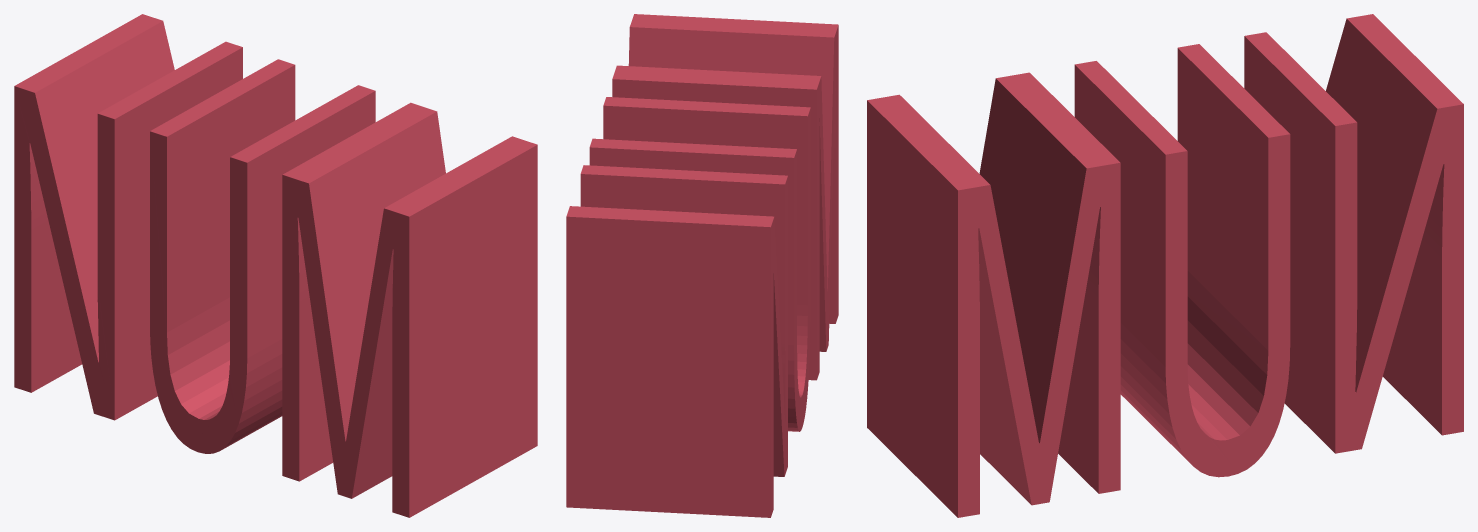
The model's file is Knight-with-names.glb.
3 renders of one model, left to right at view 1: azimuth 30°, elevation 25°; view 2: azimuth 150°, elevation 25°; view 3: azimuth 270°, elevation 25°, orthographic. The views are drawn at different scales.
Parts seen in each view (by area): view 1: Mesh_Mesh_head_geo.001_lambert2SG.001; view 2: Mesh_Mesh_head_geo.001_lambert2SG.001; view 3: Mesh_Mesh_head_geo.001_lambert2SG.001.
Boxes of the visible parts, x1=… form: Mesh_Mesh_head_geo.001_lambert2SG.001: x1=14, y1=14, x2=537, y2=517; Mesh_Mesh_head_geo.001_lambert2SG.001: x1=566, y1=14, x2=838, y2=517; Mesh_Mesh_head_geo.001_lambert2SG.001: x1=867, y1=14, x2=1463, y2=517.
Bounding box in the file's own units: 18.3 × 16.08 × 26.15.
